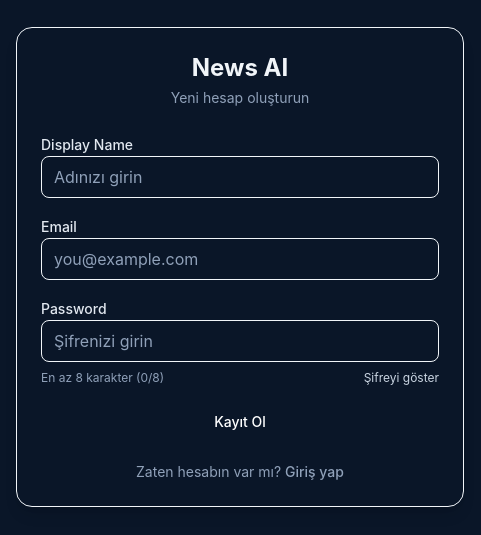
Test case: shows error when password is too short
In the password field labelled "Password": (240, 341) [41,320,439,362], type "short"
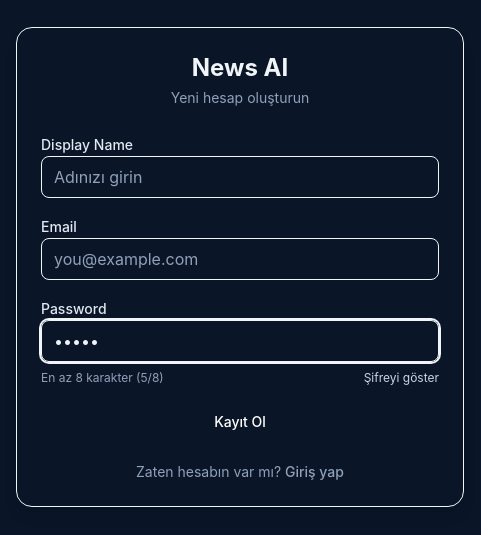
Leave the password field labelled "Password", box [41,320,439,362]
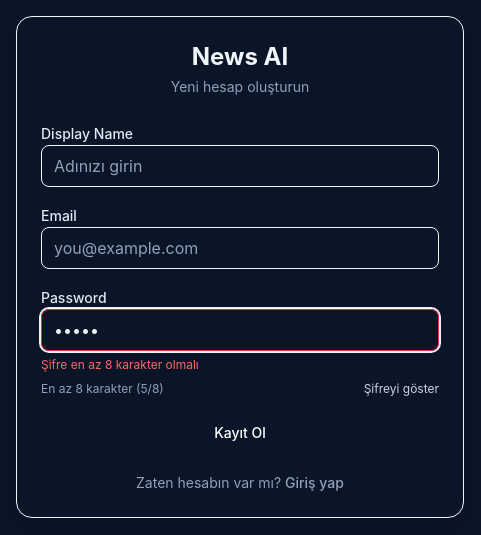
Expected: the text "Şifre en az 8 karakter olmalı" is shown, [41,357,199,372]
